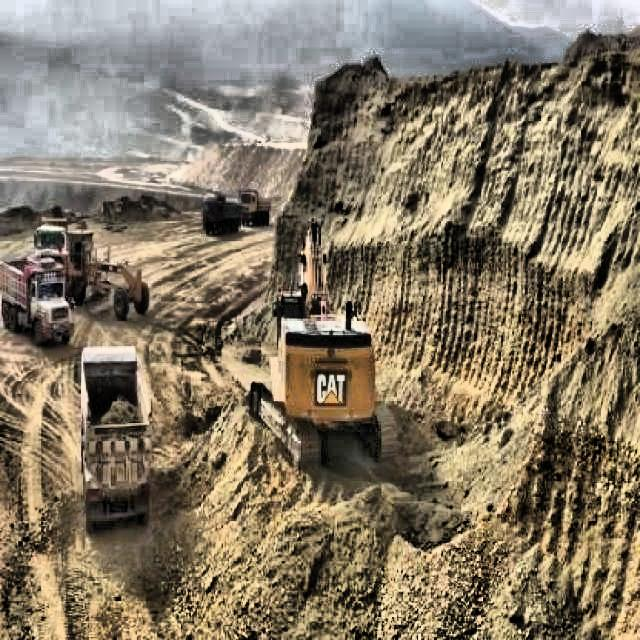dump_truck: (74, 344, 156, 534), (2, 250, 72, 344), (200, 196, 242, 237), (242, 191, 272, 226)
excavator: (249, 216, 400, 478)
